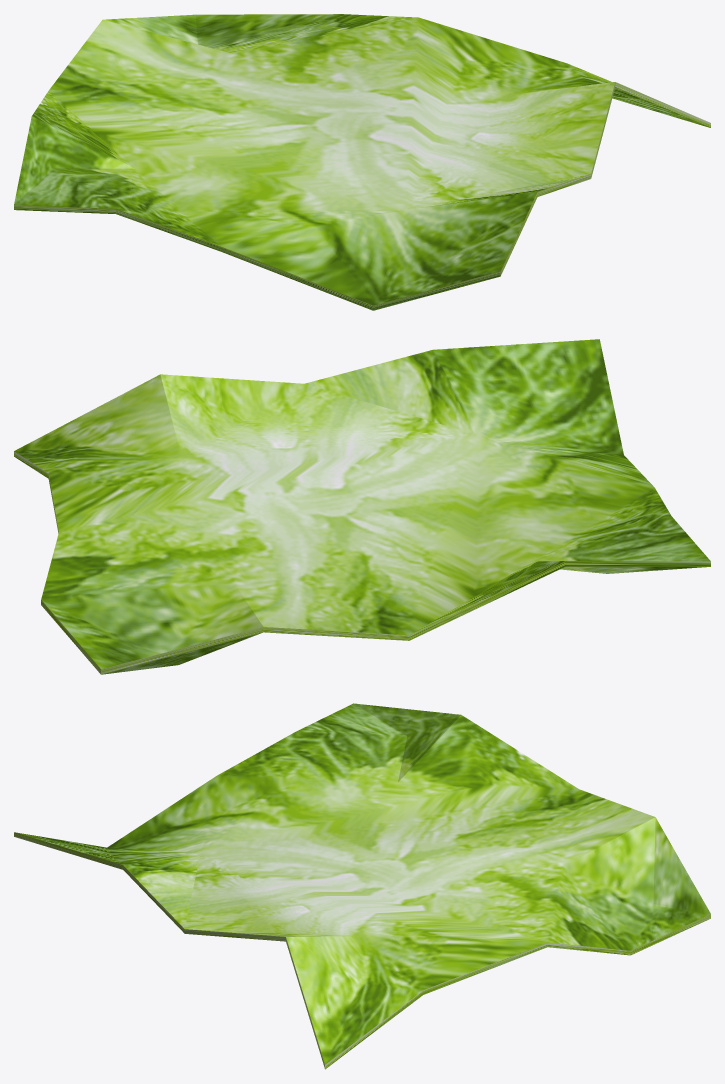
Rendered from sla We are cooked.fbx.
3 renders of one model, top to bottom at view 1: azimuth 30°, elevation 25°; view 2: azimuth 150°, elevation 25°; view 3: azimuth 270°, elevation 25°, orthographic. The views are drawn at different scales.
Parts seen in each view (by area): view 1: sla.002; view 2: sla.002; view 3: sla.002.
Boxes of the visible parts, x1,y1,x2,y2 form: sla.002: [14, 14, 710, 310]; sla.002: [14, 339, 710, 674]; sla.002: [14, 703, 710, 1069].
Bounding box in the file's own units: 12.26 × 1.78 × 12.18.
